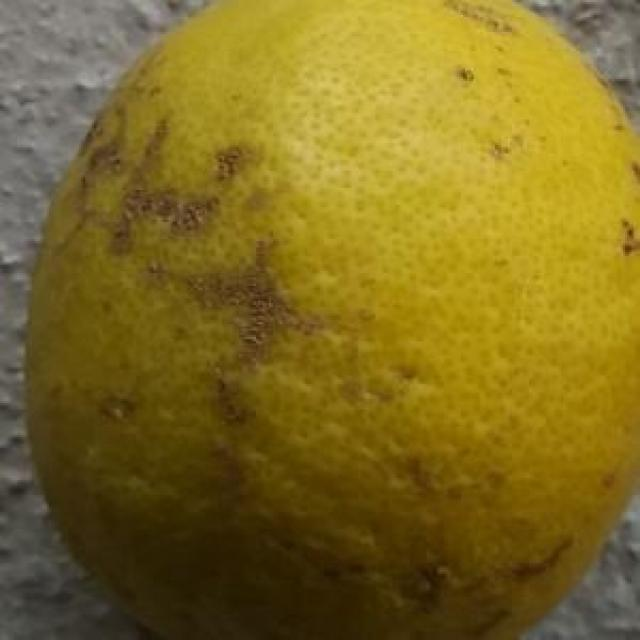lemon: (30, 5, 640, 640)
